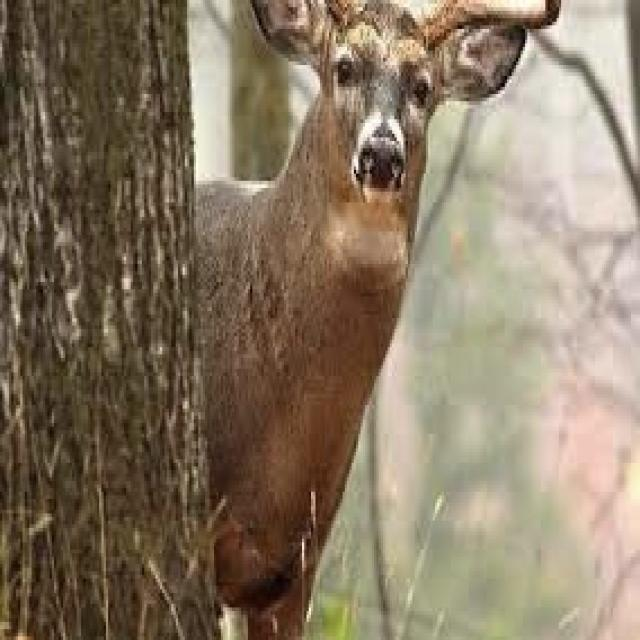deer: (198, 0, 559, 636)
